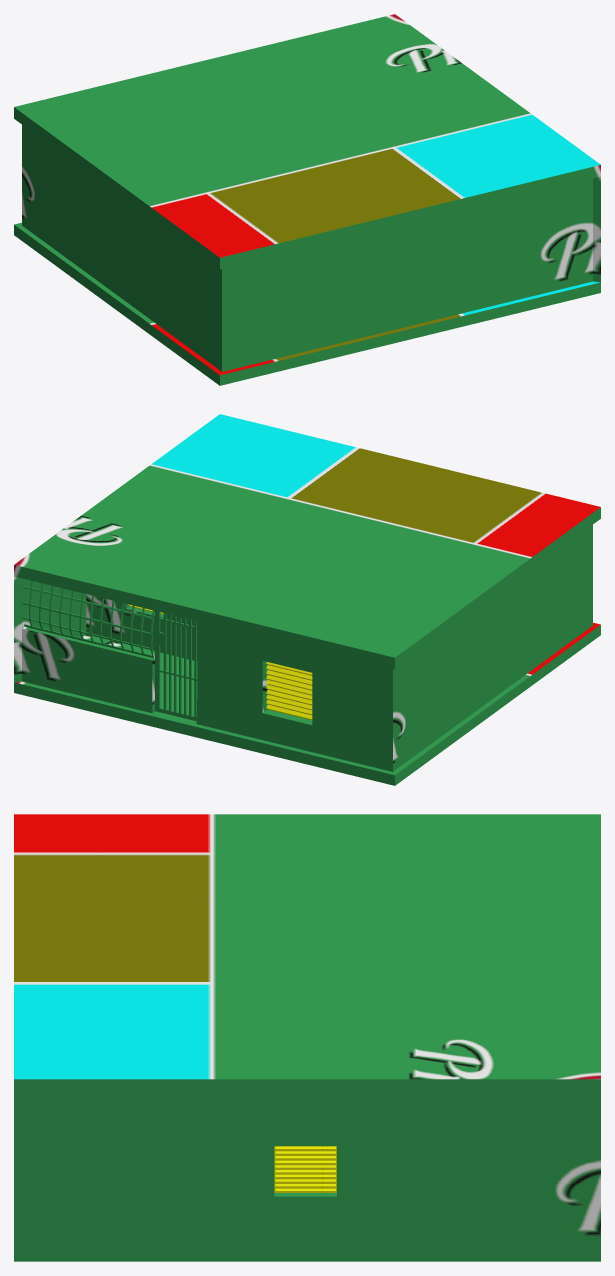
The model's file is casacomun2.fbx.
3 renders of one model, top to bottom at view 1: azimuth 30°, elevation 25°; view 2: azimuth 150°, elevation 25°; view 3: azimuth 270°, elevation 25°, orthographic. The views are drawn at different scales.
Parts seen in each view (by area): view 1: building_001; view 2: building_001, Cube; view 3: building_001.
Part boxes in pixels (<box>): building_001: <box>14,14,600,385</box>; building_001: <box>14,414,600,785</box>; Cube: <box>155,611,197,721</box>; building_001: <box>14,814,600,1261</box>.
Bounding box in the file's own units: 753 × 242 × 705.
